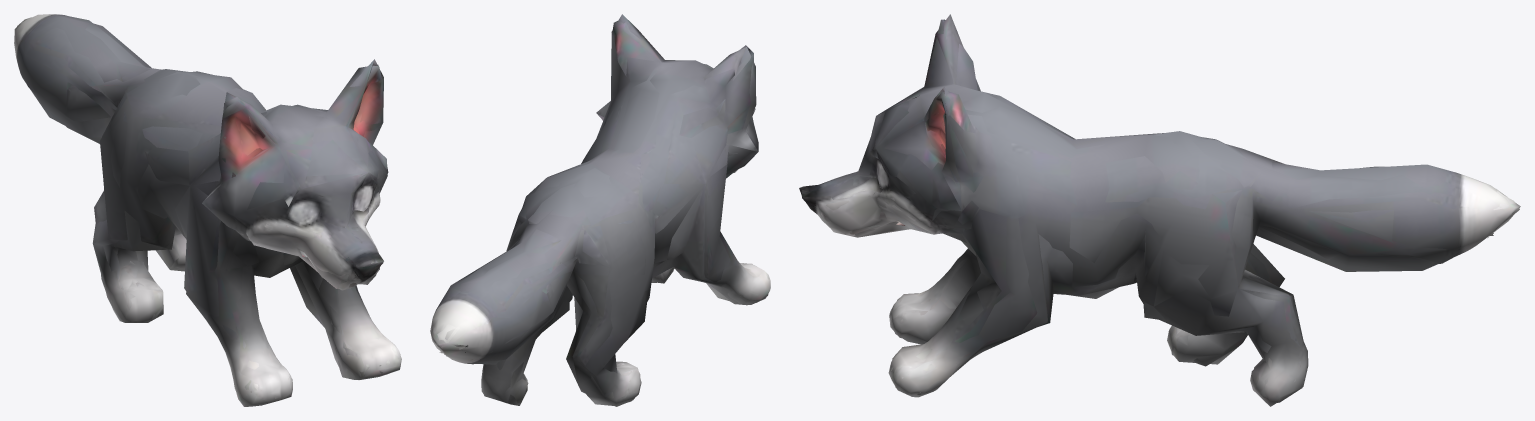
The model's file is wolf.glb.
3 views of the same model, side by side, from view 1: azimuth 30°, elevation 25°; view 2: azimuth 150°, elevation 25°; view 3: azimuth 270°, elevation 25° (orthographic). The views are drawn at different scales.
Size of the model in its own units: 0.304 by 0.5051 by 1.
Materials: 1 (1 with a texture image).
